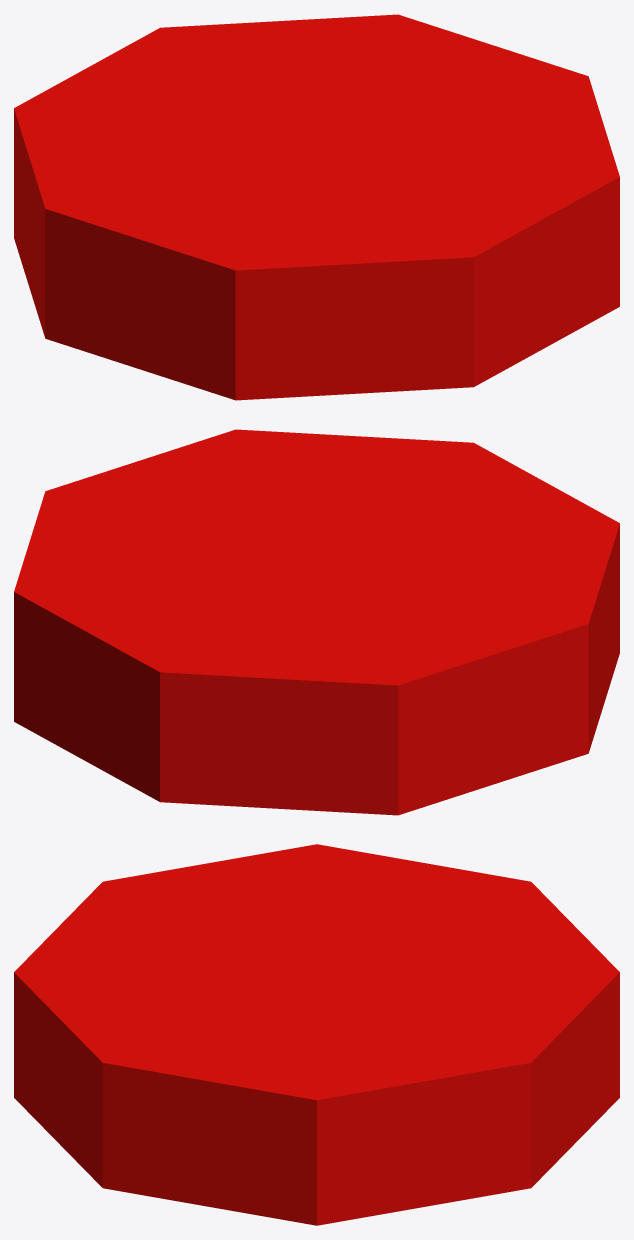
File: plate.fbx
3 renders of one model, top to bottom at view 1: azimuth 30°, elevation 25°; view 2: azimuth 150°, elevation 25°; view 3: azimuth 270°, elevation 25°, orthographic. The views are drawn at different scales.
Visible parts, largest first — view 1: Circle.001; view 2: Circle.001; view 3: Circle.001.
Part boxes in pixels (x1,y1,x2,y2): Circle.001: (14, 14, 619, 400); Circle.001: (14, 429, 619, 815); Circle.001: (14, 844, 619, 1225).
Bounding box in the file's own units: 166 × 37.85 × 166.
